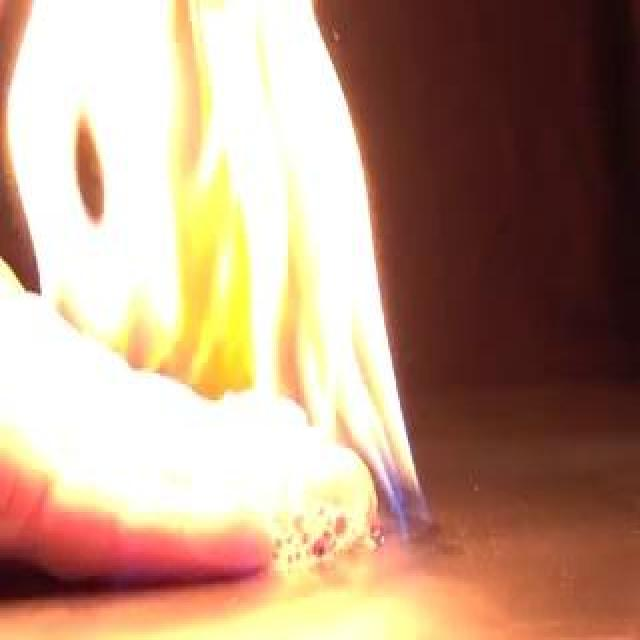Fire: (6, 2, 416, 554)
